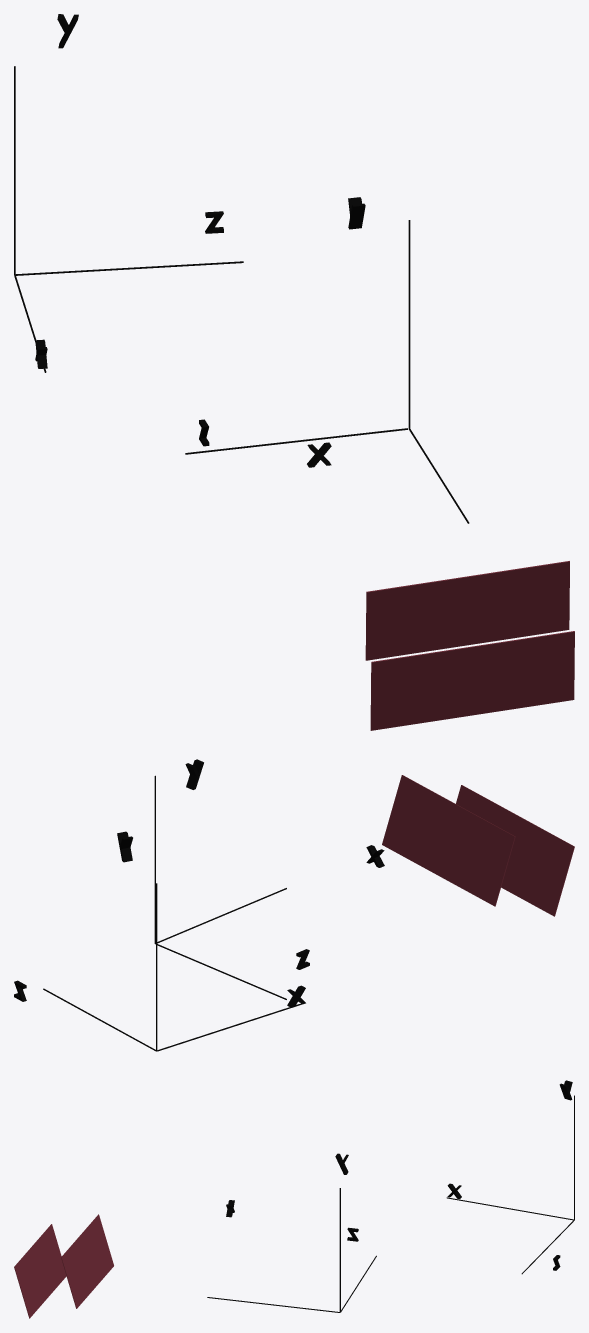
Rendered from con4.gltf.
3 renders of one model, top to bottom at view 1: azimuth 30°, elevation 25°; view 2: azimuth 150°, elevation 25°; view 3: azimuth 270°, elevation 25°, orthographic. The views are drawn at different scales.
Parts seen in each view (by area): view 1: Cube, Cube.001, Cylinder.002, Cylinder.001; view 2: Cube.001, Cube, Cylinder.002, Cylinder.001; view 3: Cube.001, Cube, Cylinder.002, Cylinder.001.
Part boxes in pixels (box(x1,y1,x2,y2)): Cube: box(370, 631, 574, 730); Cube.001: box(365, 561, 569, 660); Cylinder.002: box(185, 220, 469, 523); Cylinder.001: box(14, 66, 243, 372); Cube.001: box(382, 775, 515, 906); Cube: box(456, 785, 574, 916); Cylinder.002: box(154, 775, 286, 999); Cylinder.001: box(43, 883, 302, 1051); Cube.001: box(61, 1214, 113, 1308); Cube: box(14, 1224, 66, 1318); Cylinder.002: box(207, 1188, 376, 1312); Cylinder.001: box(446, 1095, 574, 1274).
Bounding box in the file's own units: 0.9177 × 1.18 × 2.66.
